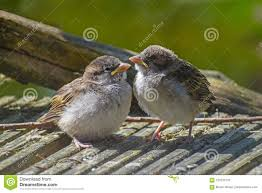hsparrow: (30, 55, 137, 153), (129, 42, 211, 145)
